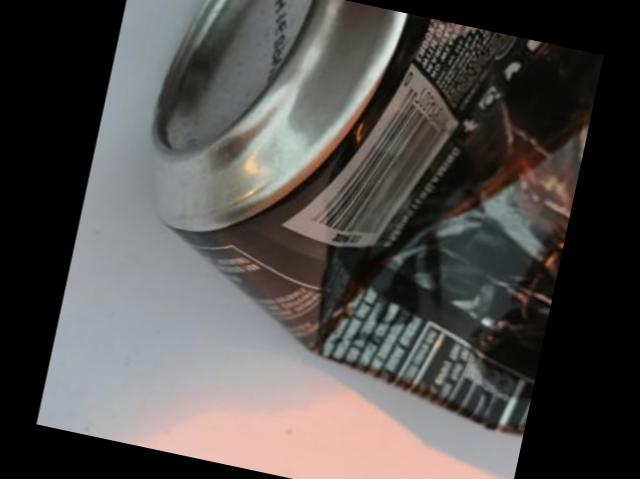metal: (157, 0, 604, 434)
